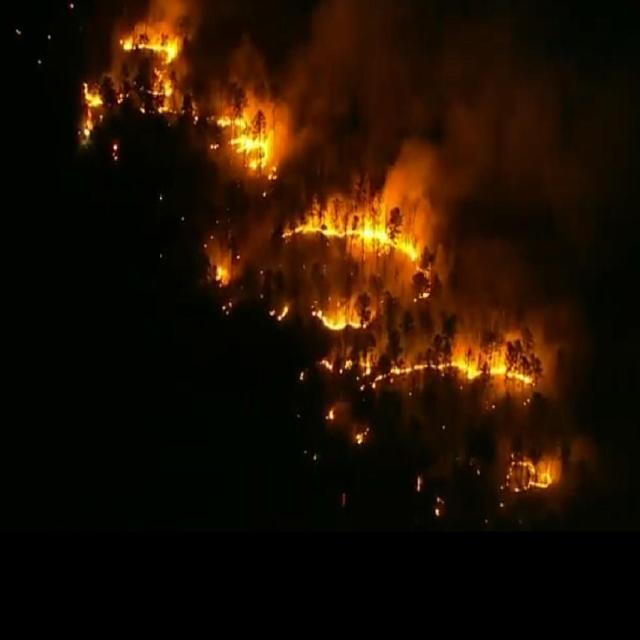Fire: (70, 25, 280, 174), (302, 291, 544, 391), (276, 189, 444, 298), (504, 460, 554, 494)
Smoke: (282, 0, 593, 256)
